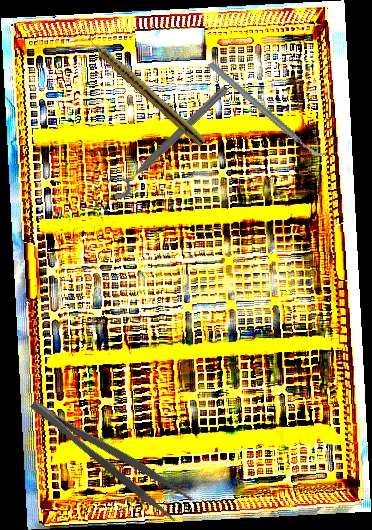Chopper: (207, 34, 328, 185)
Dressing Forceps: (27, 383, 193, 525)
Fixation Ring: (101, 75, 233, 203)
Handpiece: (83, 32, 209, 148)
